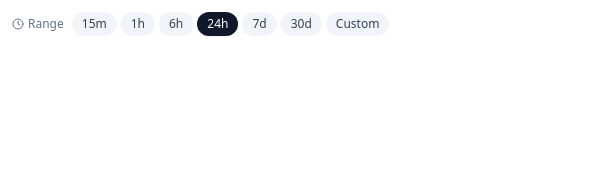
Test: <TimeRangePicker /> › reveals custom from/to inputs when Custom is selected
Click the button "Custom" at (358, 24), box [326,12,389,36]
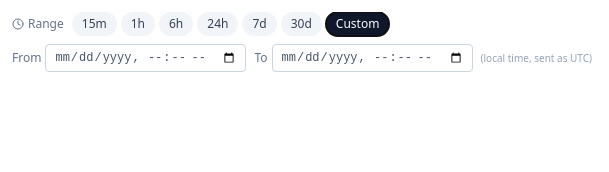
Check: the field named "from (local time)" is shown, box [45,44,246,72]
Check: the field named "to (local time)" is shown, box [272,44,472,72]
